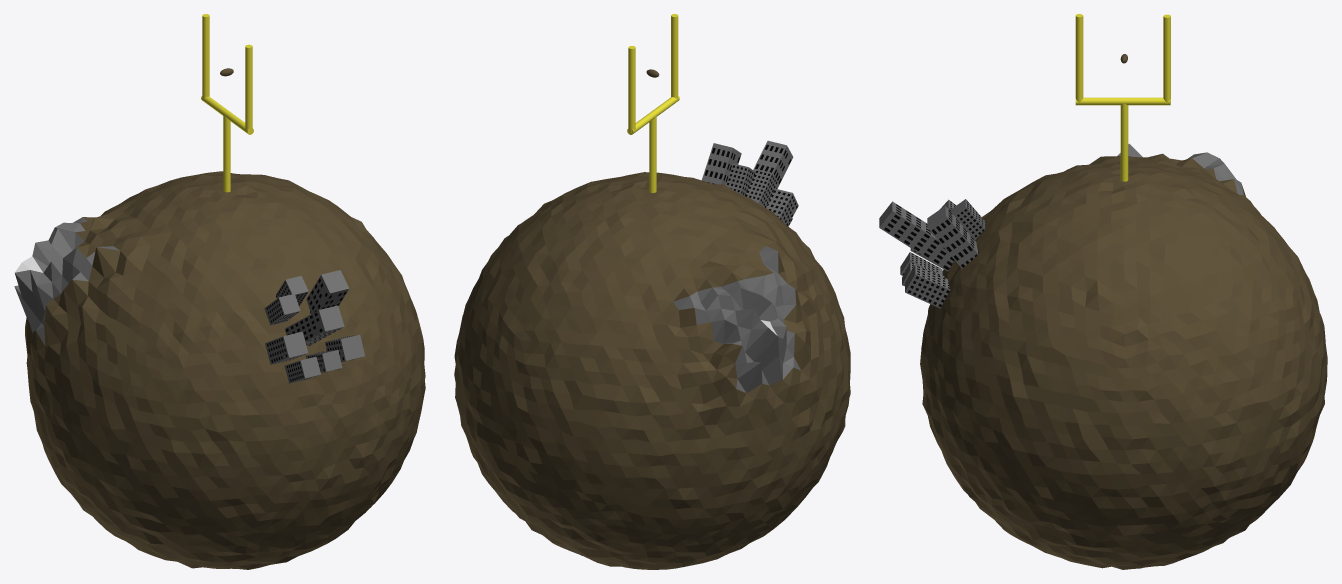
The model's file is usflworld.glb.
The picture shows the model from 3 angles, left to right: view 1: azimuth 30°, elevation 25°; view 2: azimuth 150°, elevation 25°; view 3: azimuth 270°, elevation 25°; orthographic projection. The views are drawn at different scales.
Visible parts, largest first — view 1: Icosphere, Circle, Plane.002, Plane.003, Plane.004, Plane.006, Plane.001, Plane.005, Plane.007, Plane; view 2: Icosphere, Circle, Plane.003, Plane.002, Plane.006, Plane.004, Plane.007; view 3: Icosphere, Circle, Plane.002, Plane.003, Plane.001, Plane.007.
Part boxes in pixels (box(x1,y1,x2,y2)): Icosphere: box(14, 171, 425, 569); Circle: box(201, 14, 253, 192); Plane.002: box(285, 305, 344, 345); Plane.003: box(306, 270, 349, 313); Plane.004: box(265, 331, 308, 364); Plane.006: box(264, 293, 300, 325); Plane.001: box(325, 334, 364, 361); Plane.005: box(284, 356, 320, 383); Plane.007: box(276, 276, 308, 306); Plane: box(305, 350, 342, 372); Icosphere: box(454, 172, 850, 569); Circle: box(627, 14, 679, 193); Plane.003: box(701, 143, 741, 184); Plane.002: box(753, 140, 793, 188); Plane.006: box(745, 169, 777, 207); Plane.004: box(766, 188, 798, 225); Plane.007: box(725, 163, 755, 195); Icosphere: box(920, 143, 1327, 569); Circle: box(1075, 14, 1170, 181); Plane.002: box(879, 201, 954, 271); Plane.003: box(927, 206, 978, 268); Plane.001: box(905, 264, 950, 308); Plane.007: box(951, 199, 985, 239).
Bounding box in the file's own units: 5.38 × 7.75 × 5.9.
